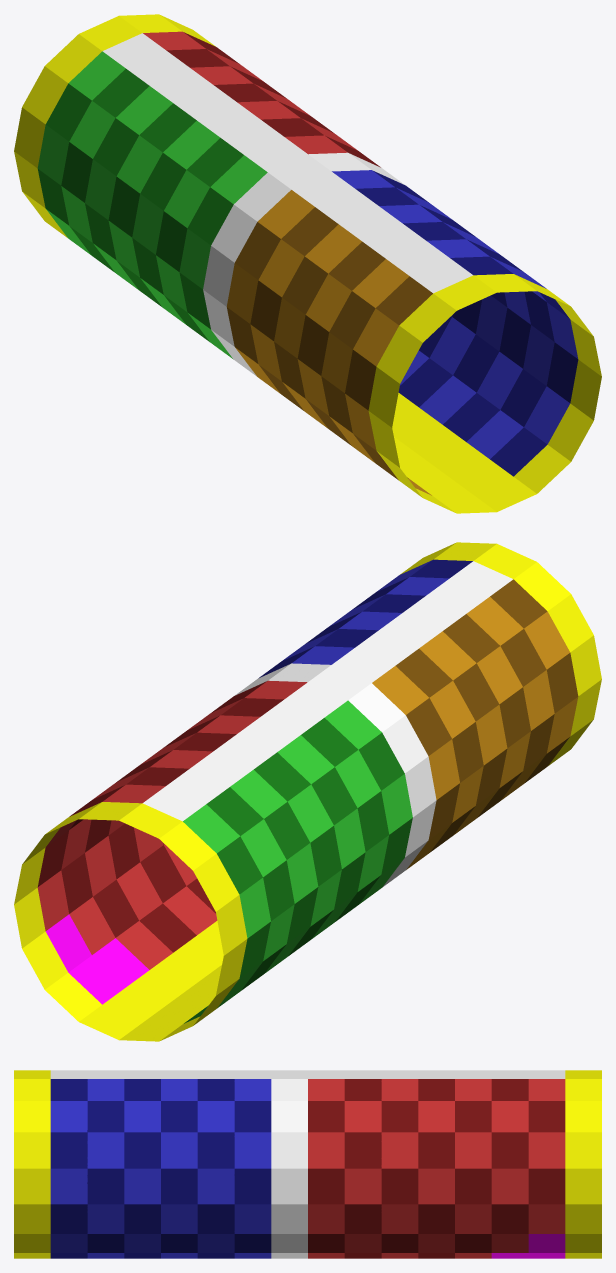
File: pixel_art_cylinder_16x16.obj
3 renders of one model, top to bottom at view 1: azimuth 30°, elevation 25°; view 2: azimuth 150°, elevation 25°; view 3: azimuth 270°, elevation 25°, orthographic. The views are drawn at different scales.
Visible parts, largest first — view 1: pixel_art_cylindrical_wrap; view 2: pixel_art_cylindrical_wrap; view 3: pixel_art_cylindrical_wrap.
Boxes of the visible parts, x1,y1,x2,y2 form: pixel_art_cylindrical_wrap: (14, 14, 601, 513); pixel_art_cylindrical_wrap: (14, 542, 601, 1041); pixel_art_cylindrical_wrap: (14, 1070, 601, 1258).
Bounding box in the file's own units: 5.13 × 5.13 × 16.
Materials: 1 (1 with a texture image).
